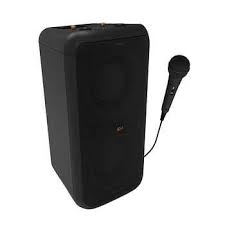microphone: (157, 53, 192, 127)
speaker: (29, 21, 147, 209)
